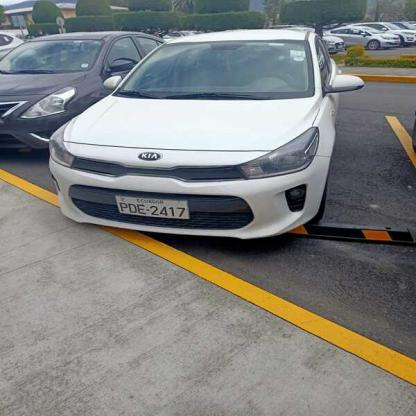Placa: (114, 191, 195, 224)
